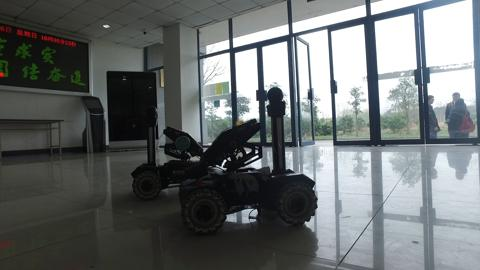chariot: (187, 85, 320, 235), (124, 108, 205, 197)
